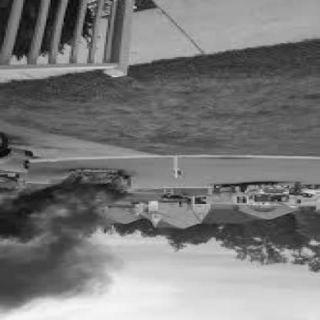Fire: (58, 170, 134, 190), (88, 192, 105, 205)
Smoke: (0, 197, 83, 315)
other: (202, 184, 296, 208)
